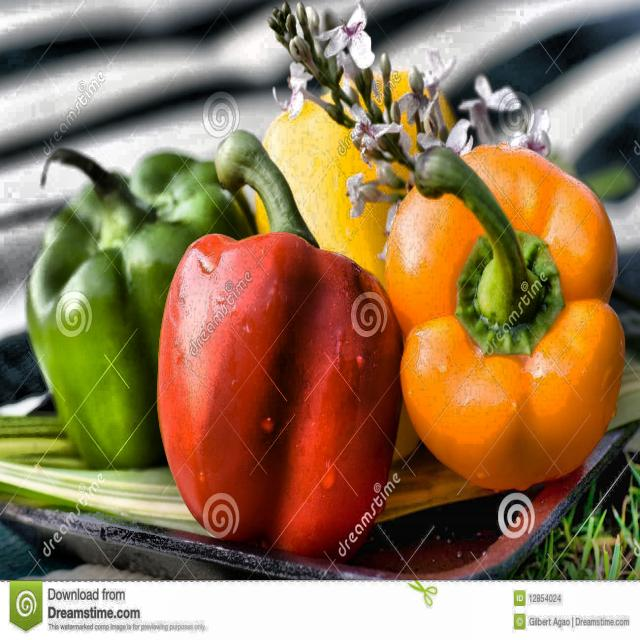capsicum: (419, 135, 617, 499)
green pepper: (166, 143, 392, 547), (22, 115, 201, 442)
red capsicum: (163, 135, 412, 550)
